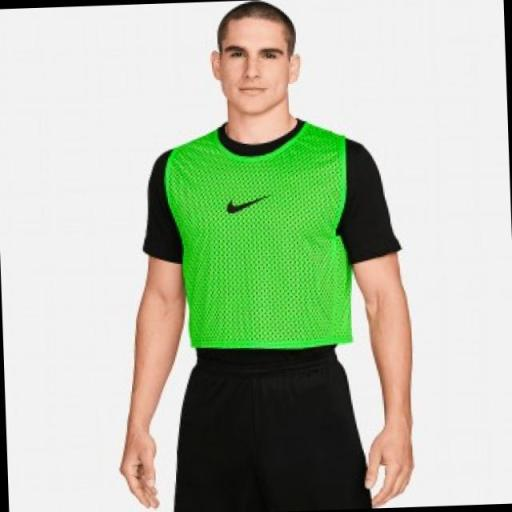Nike: (221, 185, 276, 220)
